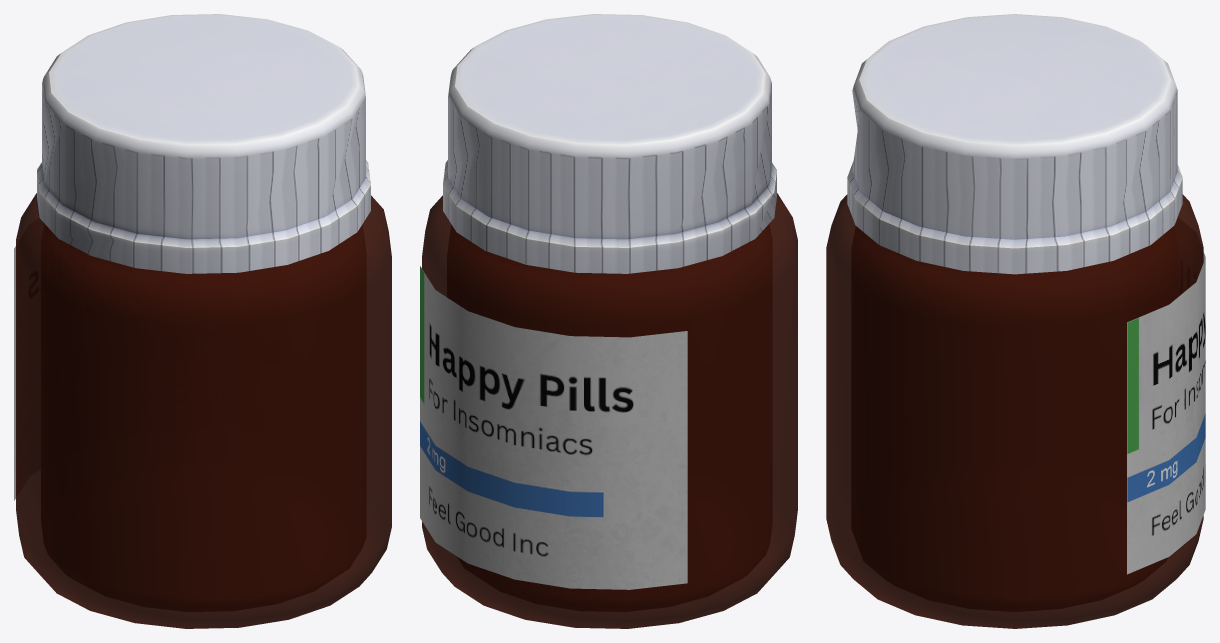
Rendered from PillBottle.glb.
3 views of the same model, side by side, from view 1: azimuth 30°, elevation 25°; view 2: azimuth 150°, elevation 25°; view 3: azimuth 270°, elevation 25° (orthographic).
Visible parts, largest first — view 1: pCylinder5, pCylinder7; view 2: pCylinder7, pCylinder8, pCylinder5; view 3: pCylinder5, pCylinder7, pCylinder8.
Boxes of the visible parts, x1,y1,x2,y2 form: pCylinder5: (16,193,391,628); pCylinder7: (37,14,370,273); pCylinder7: (443,14,776,273); pCylinder8: (420,266,687,589); pCylinder5: (422,193,797,628); pCylinder5: (826,194,1203,628); pCylinder7: (847,14,1182,274); pCylinder8: (1127,252,1205,574).
Size of the model in its own units: 4 by 5.67 by 4.02.
Materials: 3 (2 with a texture image).
